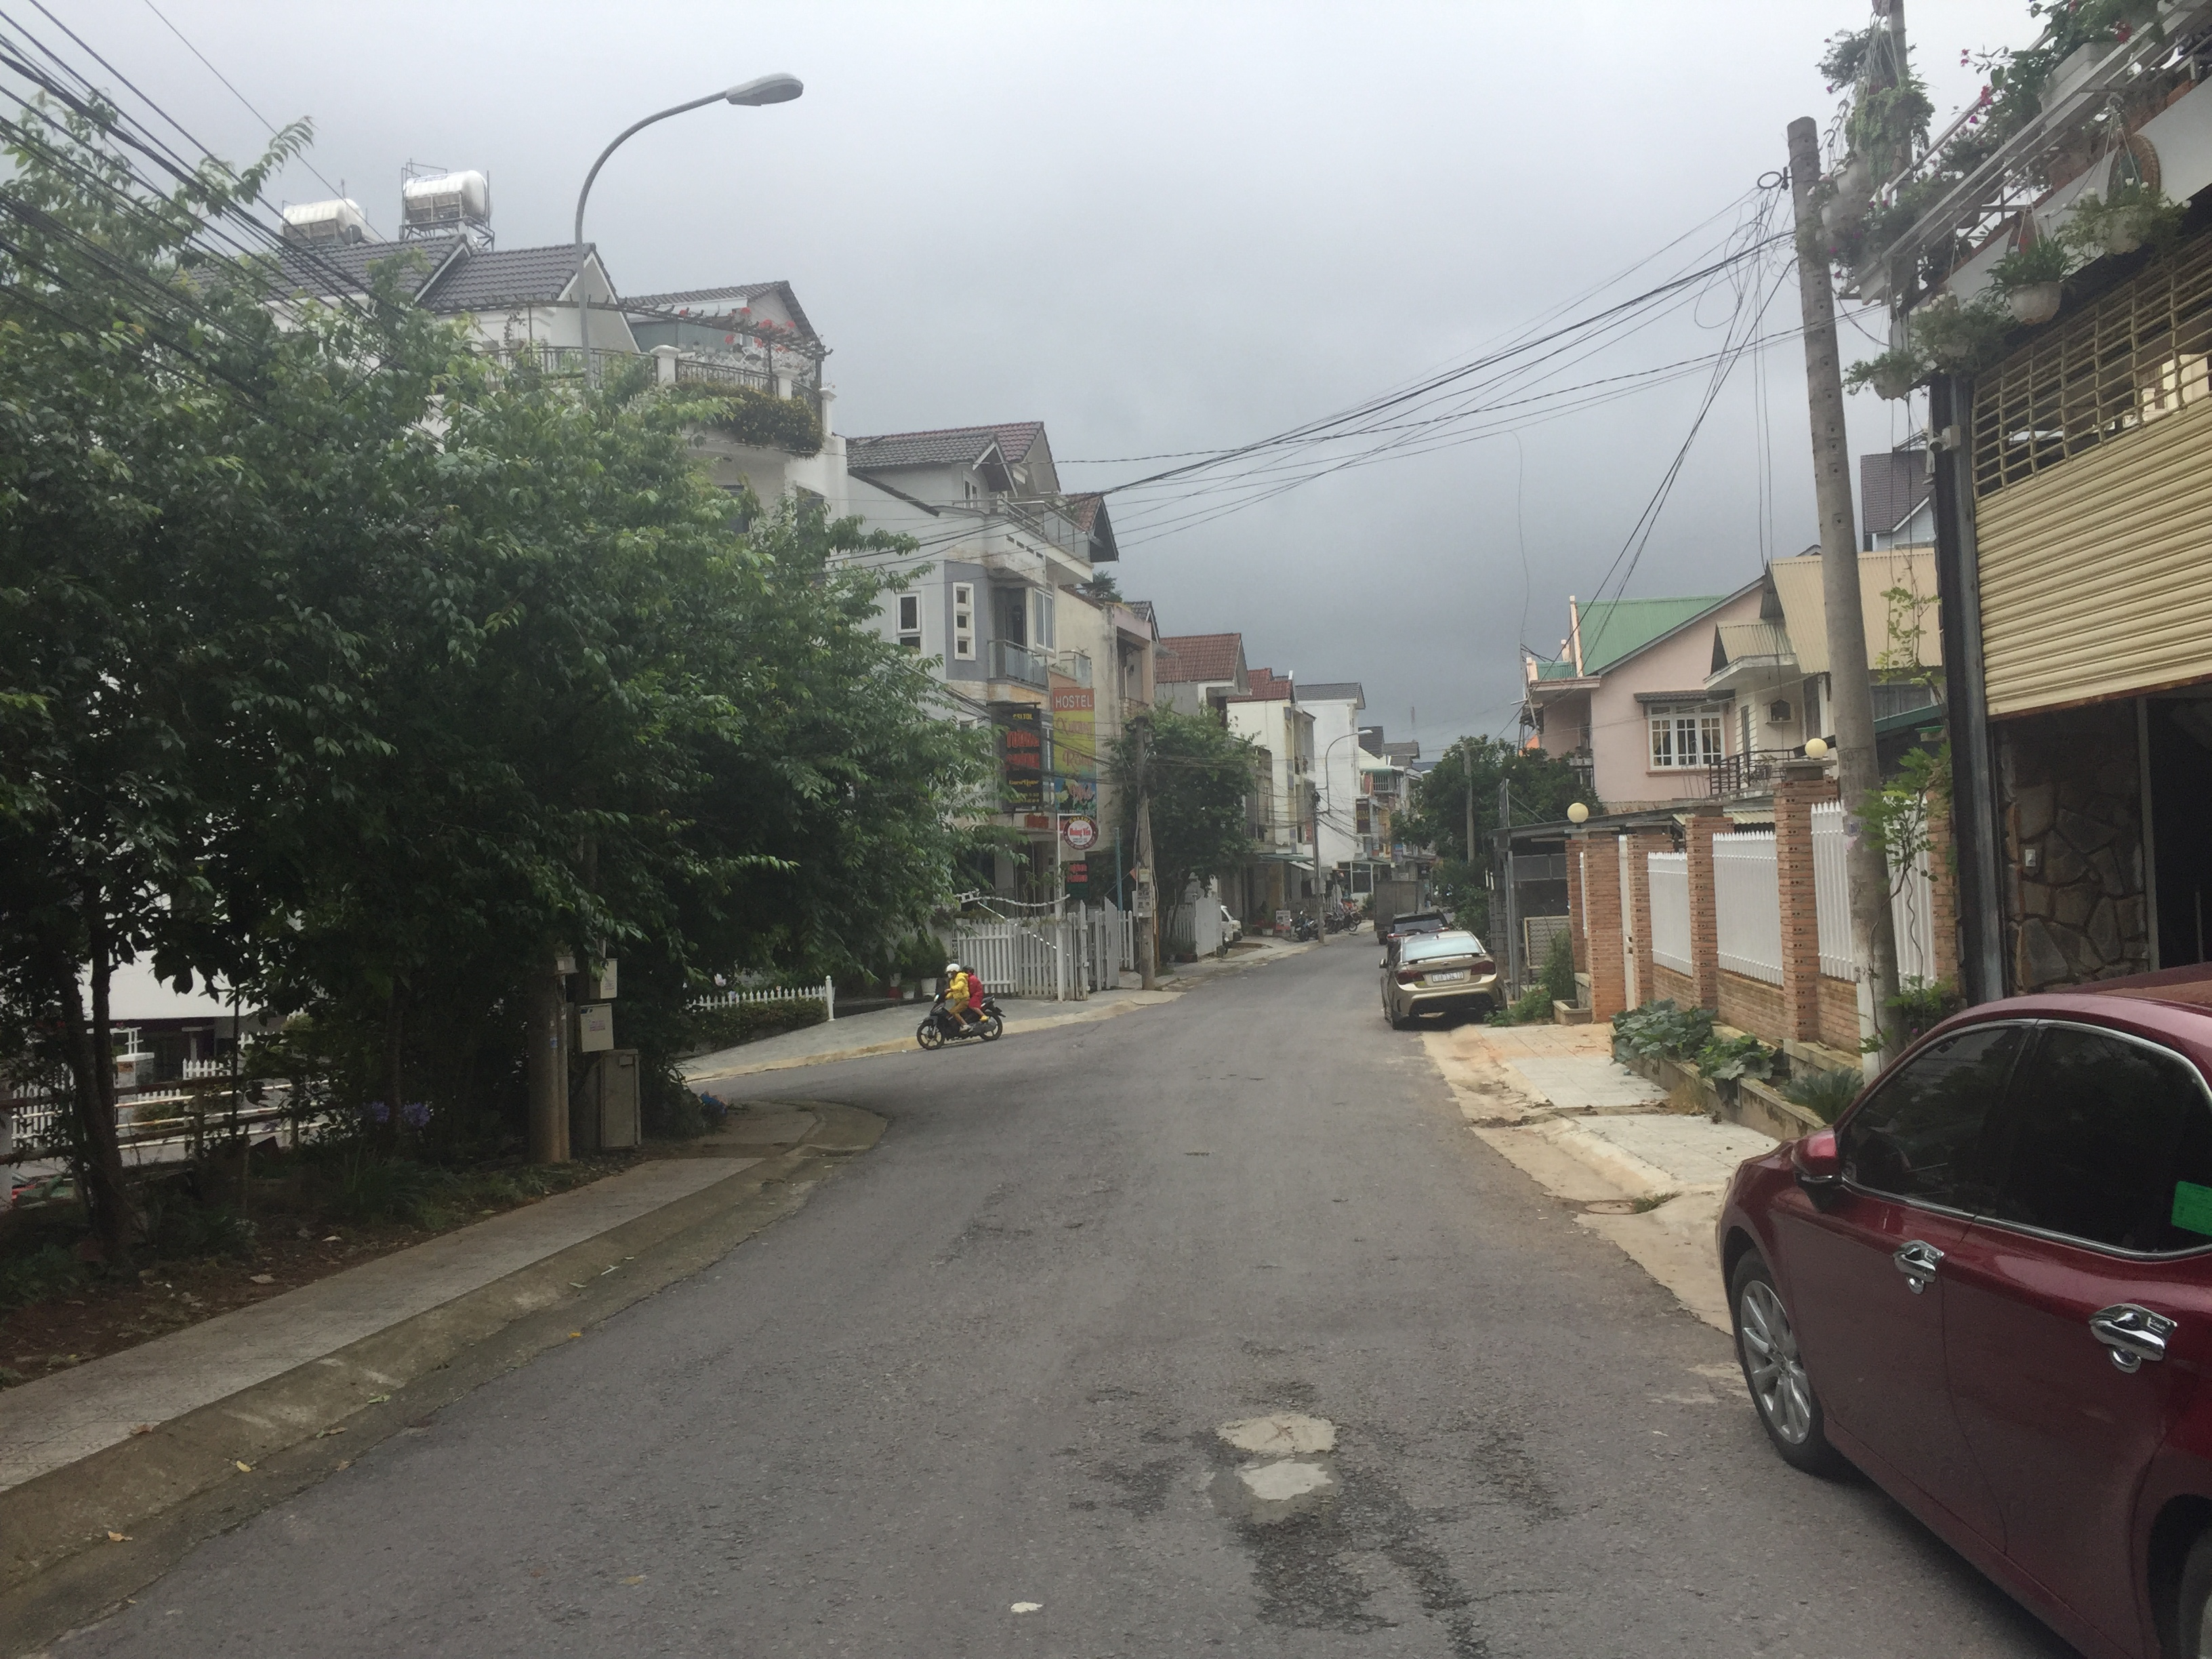hole: (1061, 1222, 1083, 1232), (1183, 1150, 1212, 1155), (1348, 1236, 1369, 1243), (1329, 1195, 1348, 1202), (1385, 1253, 1400, 1260)
